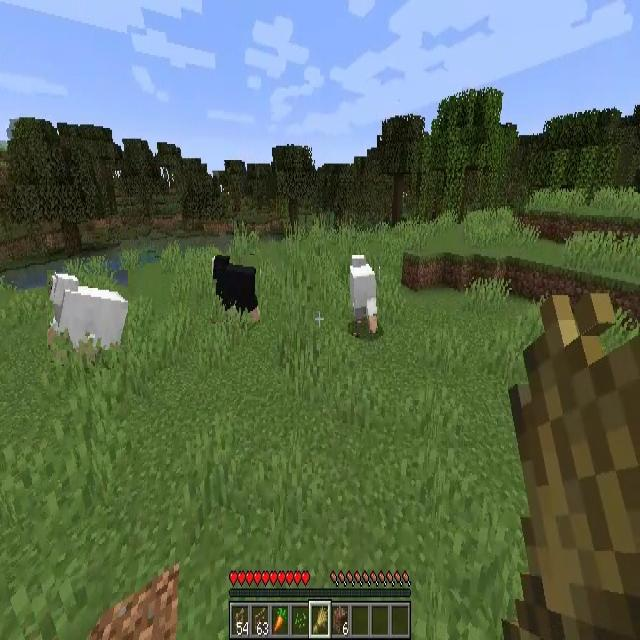sheep: (47, 270, 128, 350), (212, 255, 260, 322), (350, 256, 379, 334)
